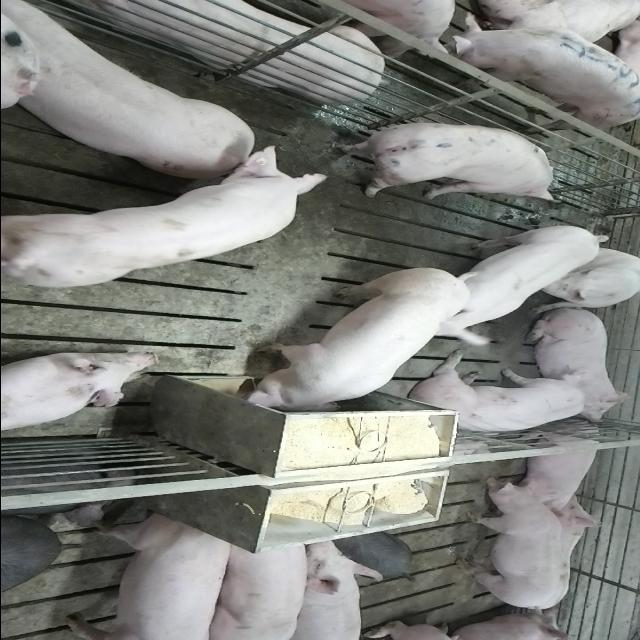Feeding: (236, 271, 470, 421)
Sitting: (406, 360, 585, 438)
Standing: (2, 150, 326, 296), (5, 5, 261, 182), (435, 17, 640, 129), (63, 512, 239, 638), (419, 227, 605, 345), (332, 120, 560, 204), (450, 478, 560, 612), (208, 533, 312, 637), (278, 536, 380, 640)
Sternal_lying: (59, 0, 408, 100), (0, 349, 158, 432), (519, 311, 633, 424), (506, 428, 604, 510)
